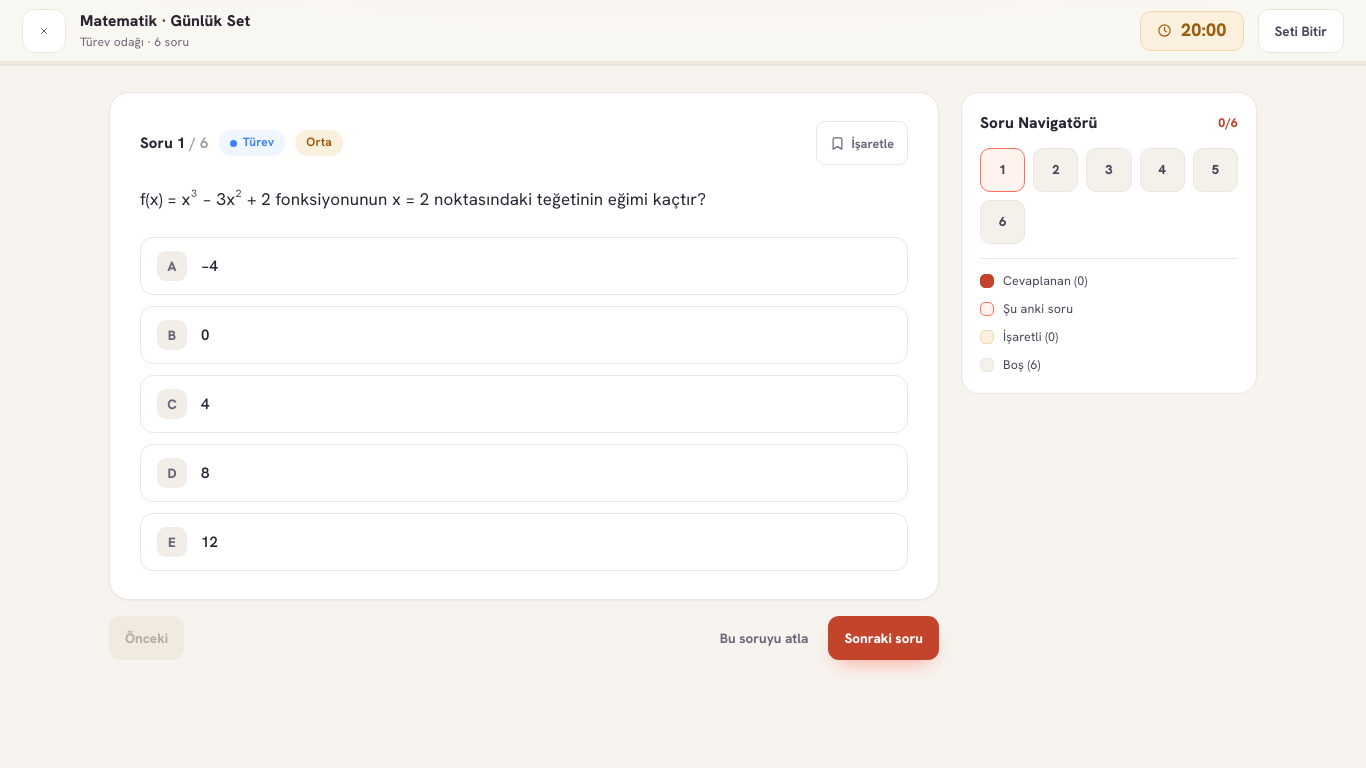
Test: SoruCozmePage › şık seçimi → sunucu-otoriter review (çözüm paneli açılır, şıklar kilitlenir)
Click the radio button labelled "A −4" at (172, 266), box [140,237,908,295]
(page scrolled)
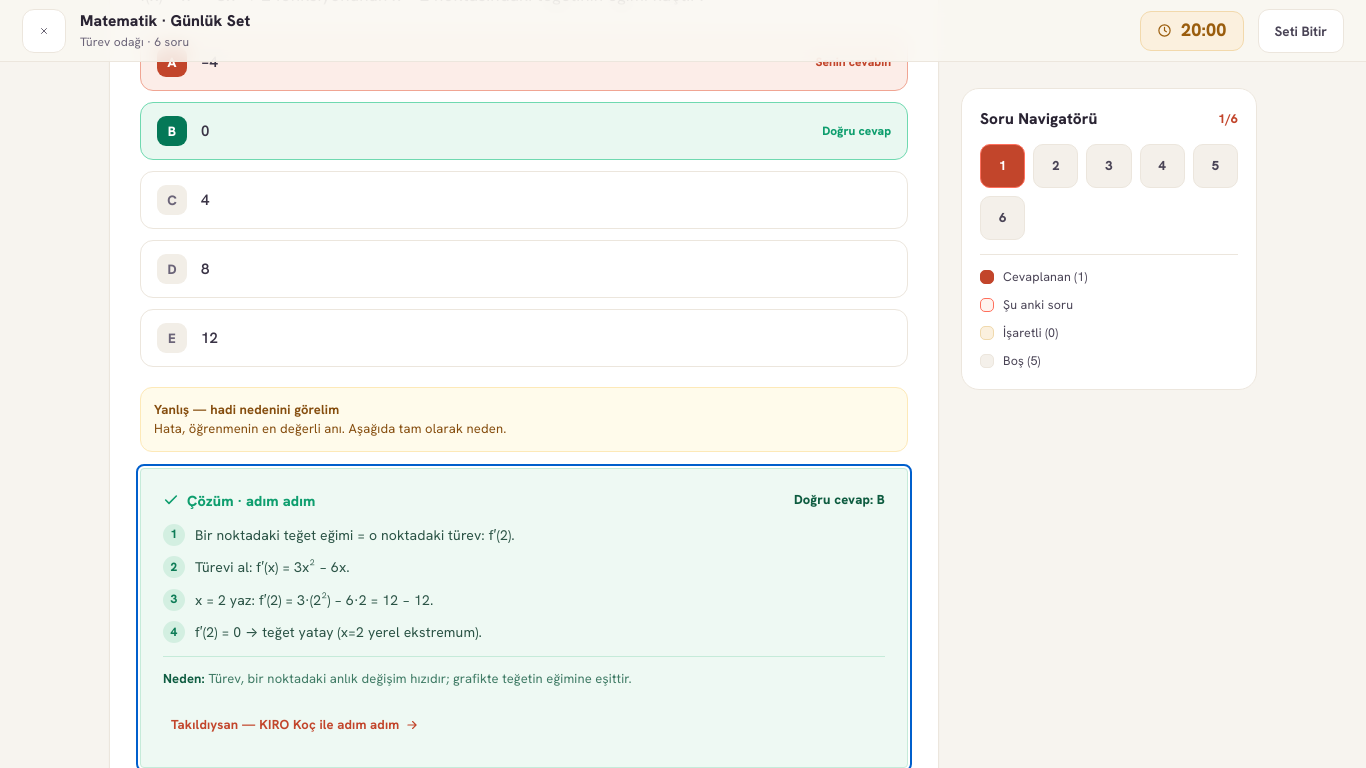
Expected: the text "Çözüm · adım adım" is shown, [187,489,315,512]
Expected: the radio button labelled "A −4 Senin cevabın" is disabled, [140,33,908,91]
